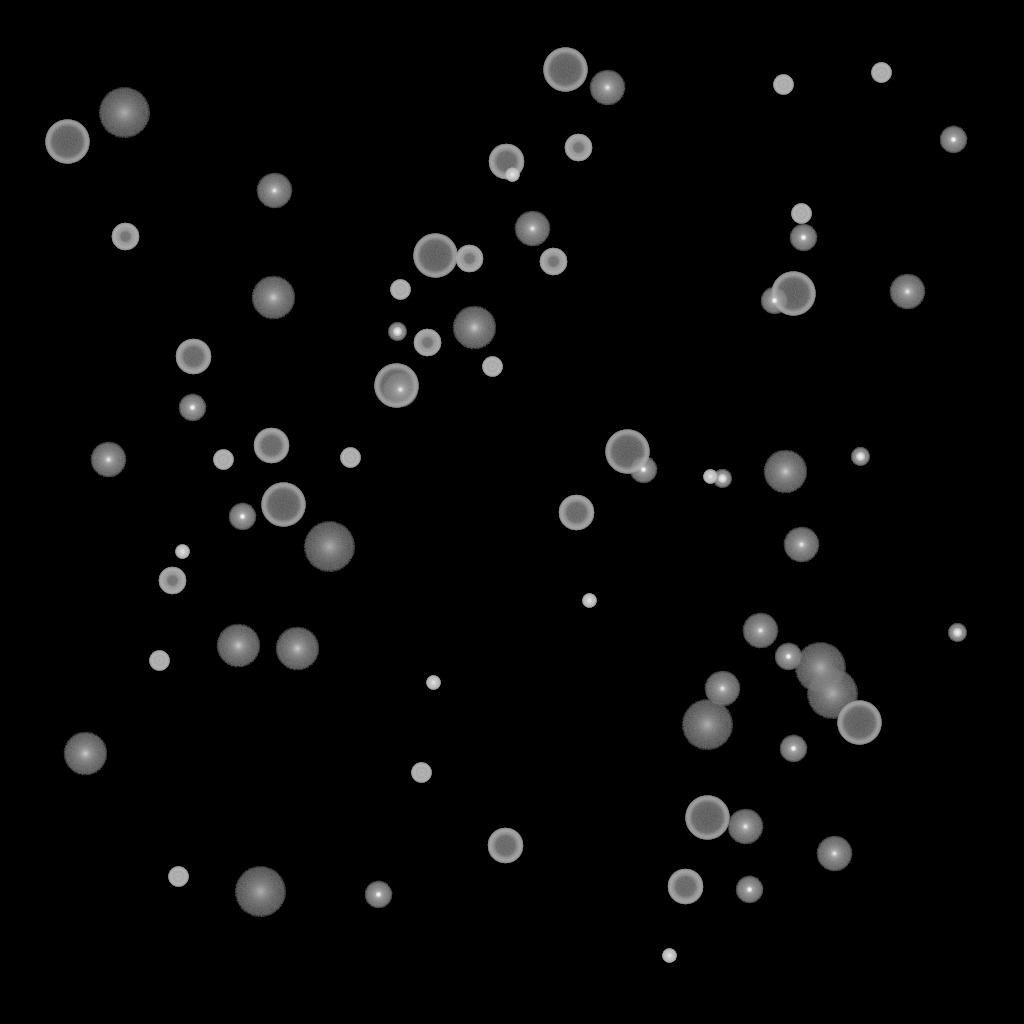depth:-10: (789, 224, 817, 252), (629, 456, 657, 484), (774, 643, 802, 671), (178, 394, 206, 422), (779, 735, 807, 763), (939, 126, 967, 154), (228, 503, 256, 531), (364, 881, 392, 909), (760, 287, 788, 315), (735, 876, 763, 904)
depth:-20: (948, 624, 966, 642), (388, 323, 406, 341), (851, 448, 869, 466), (713, 470, 731, 488)
depth:-30: (662, 949, 676, 963), (175, 545, 189, 559), (505, 168, 519, 182), (703, 470, 717, 484), (426, 676, 440, 690), (582, 594, 596, 608)
depth:-40: (871, 63, 891, 83), (168, 867, 188, 887), (773, 75, 793, 95), (791, 204, 811, 224), (482, 357, 502, 377), (390, 280, 410, 300), (149, 651, 169, 671), (411, 763, 431, 783), (213, 450, 233, 470), (340, 448, 360, 468)
depth:-50: (455, 245, 483, 273), (539, 248, 567, 276), (158, 567, 186, 595), (111, 223, 139, 251), (413, 329, 441, 357), (564, 134, 592, 162)
depth:-60: (667, 869, 703, 905), (487, 828, 523, 864), (175, 339, 211, 375), (488, 144, 524, 180), (253, 428, 289, 464), (558, 495, 594, 531)
depth:-70: (685, 796, 729, 840), (261, 483, 305, 527), (543, 48, 587, 92), (413, 234, 457, 278), (45, 120, 89, 164), (374, 364, 418, 408), (771, 272, 815, 316), (605, 430, 649, 474), (837, 701, 881, 745)
depth:0: (514, 211, 550, 247), (742, 613, 778, 649), (727, 809, 763, 845), (704, 671, 740, 707), (816, 836, 852, 872), (783, 527, 819, 563), (889, 274, 925, 310), (256, 173, 292, 209), (90, 442, 126, 478), (382, 372, 418, 408), (589, 70, 625, 106)
depth:10: (251, 276, 295, 320), (63, 732, 107, 776), (763, 450, 807, 494), (275, 627, 319, 671), (452, 306, 496, 350), (216, 624, 260, 668)
depth:20: (794, 643, 846, 693), (303, 522, 355, 572), (98, 88, 150, 138), (806, 669, 858, 719), (681, 700, 733, 750), (234, 867, 286, 917)
